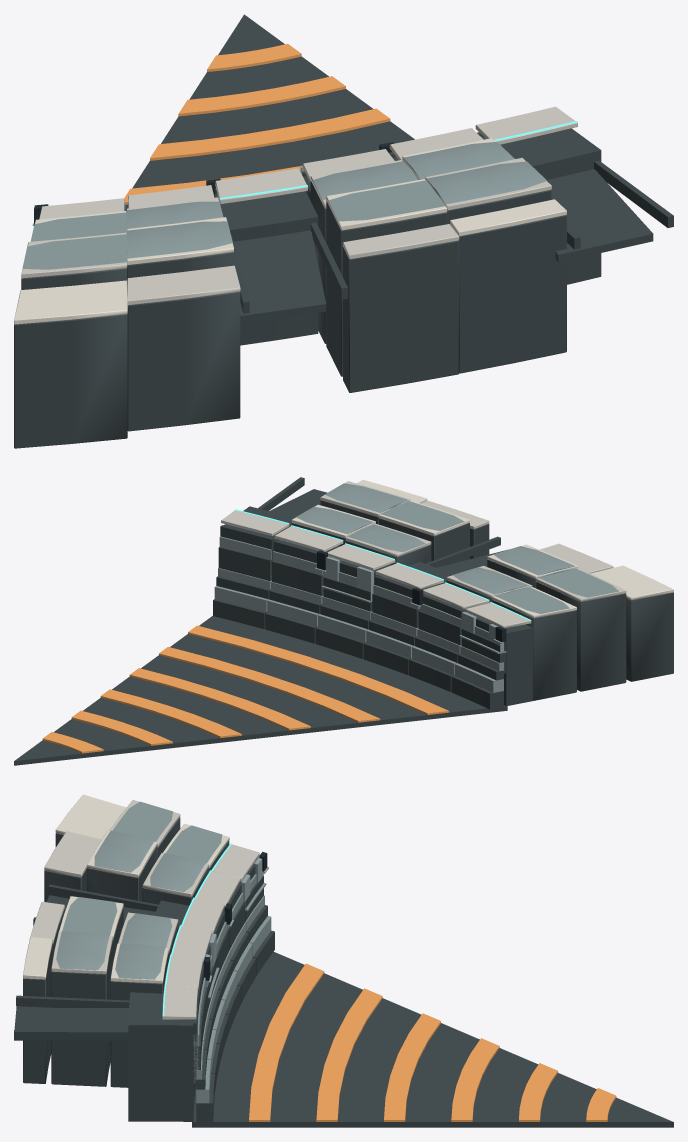
Rendered from Weather_Lung_Sector_08_Structure.glb.
3 renders of one model, top to bottom at view 1: azimuth 30°, elevation 25°; view 2: azimuth 150°, elevation 25°; view 3: azimuth 270°, elevation 25°, orthographic. The views are drawn at different scales.
Parts seen in each view (by area): view 1: Weather_Lung_Sector_08_Structure; view 2: Weather_Lung_Sector_08_Structure; view 3: Weather_Lung_Sector_08_Structure.
Boxes of the visible parts, bbox=[...] form: Weather_Lung_Sector_08_Structure: bbox=[14, 14, 673, 448]; Weather_Lung_Sector_08_Structure: bbox=[14, 477, 673, 765]; Weather_Lung_Sector_08_Structure: bbox=[14, 794, 673, 1127].
Size of the model in its own units: 6429 by 1637 by 7807.
